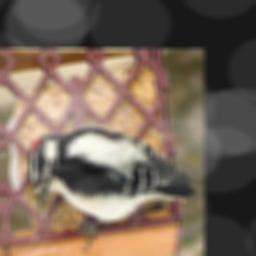Woodpecker: (28, 122, 197, 256)
